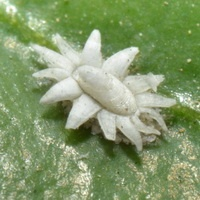insect: (32, 29, 175, 150)
